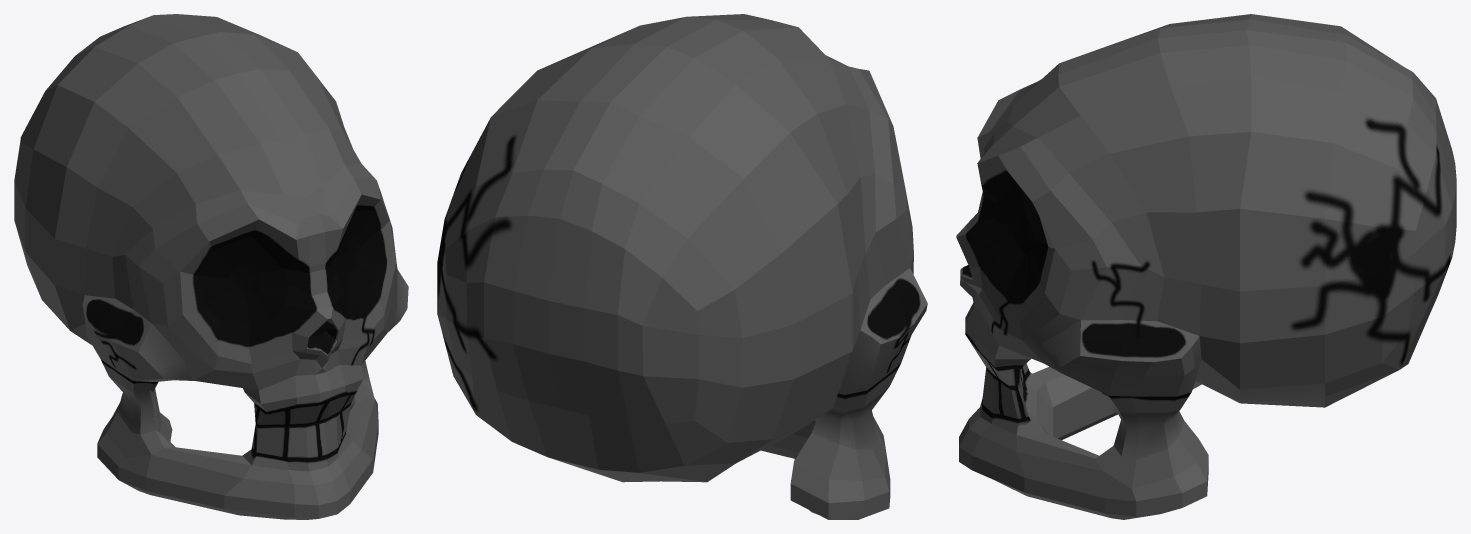
The model's file is RegularSkull_w_Stone_Tex.fbx.
3 renders of one model, left to right at view 1: azimuth 30°, elevation 25°; view 2: azimuth 150°, elevation 25°; view 3: azimuth 270°, elevation 25°, orthographic. The views are drawn at different scales.
Visible parts, largest first — view 1: nurbsToPoly5; view 2: nurbsToPoly5; view 3: nurbsToPoly5.
Boxes of the visible parts, <box> form: nurbsToPoly5: <box>14,14,408,519</box>; nurbsToPoly5: <box>437,14,927,519</box>; nurbsToPoly5: <box>956,14,1456,519</box>.
Bounding box in the file's own units: 31.84 × 41 × 42.39.
1 material, 1 textured.
